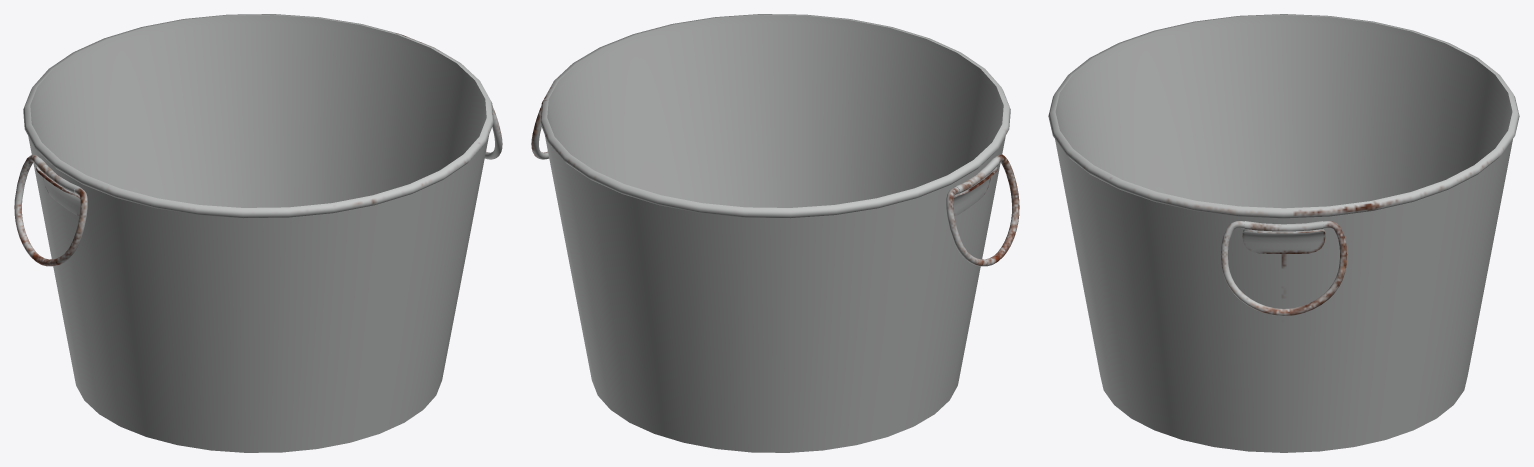
Rendered from Prop_Ice_Bucket.fbx.
3 renders of one model, left to right at view 1: azimuth 30°, elevation 25°; view 2: azimuth 150°, elevation 25°; view 3: azimuth 270°, elevation 25°, orthographic.
Visible parts, largest first — view 1: Prop_Ice_Bucket; view 2: Prop_Ice_Bucket; view 3: Prop_Ice_Bucket.
Boxes of the visible parts, bbox=[...] form: Prop_Ice_Bucket: bbox=[14, 14, 502, 452]; Prop_Ice_Bucket: bbox=[531, 14, 1019, 452]; Prop_Ice_Bucket: bbox=[1048, 14, 1519, 452].
Size of the model in its own units: 18.31 by 10.33 by 16.73.
